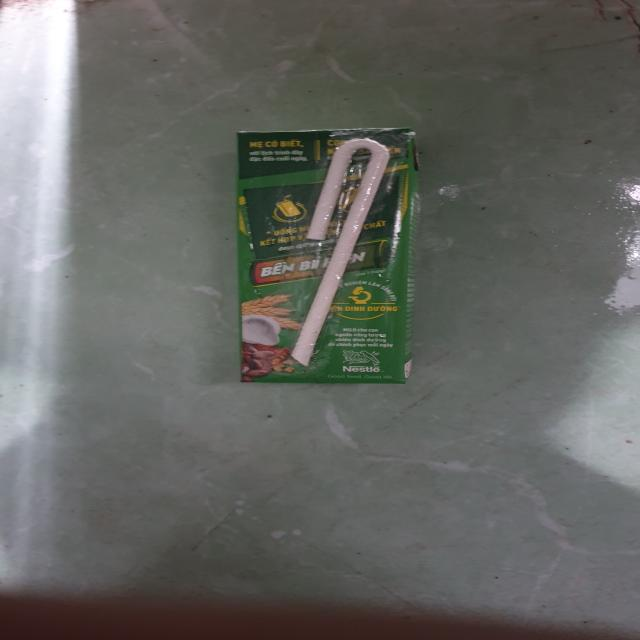Milo: (231, 127, 428, 392)
